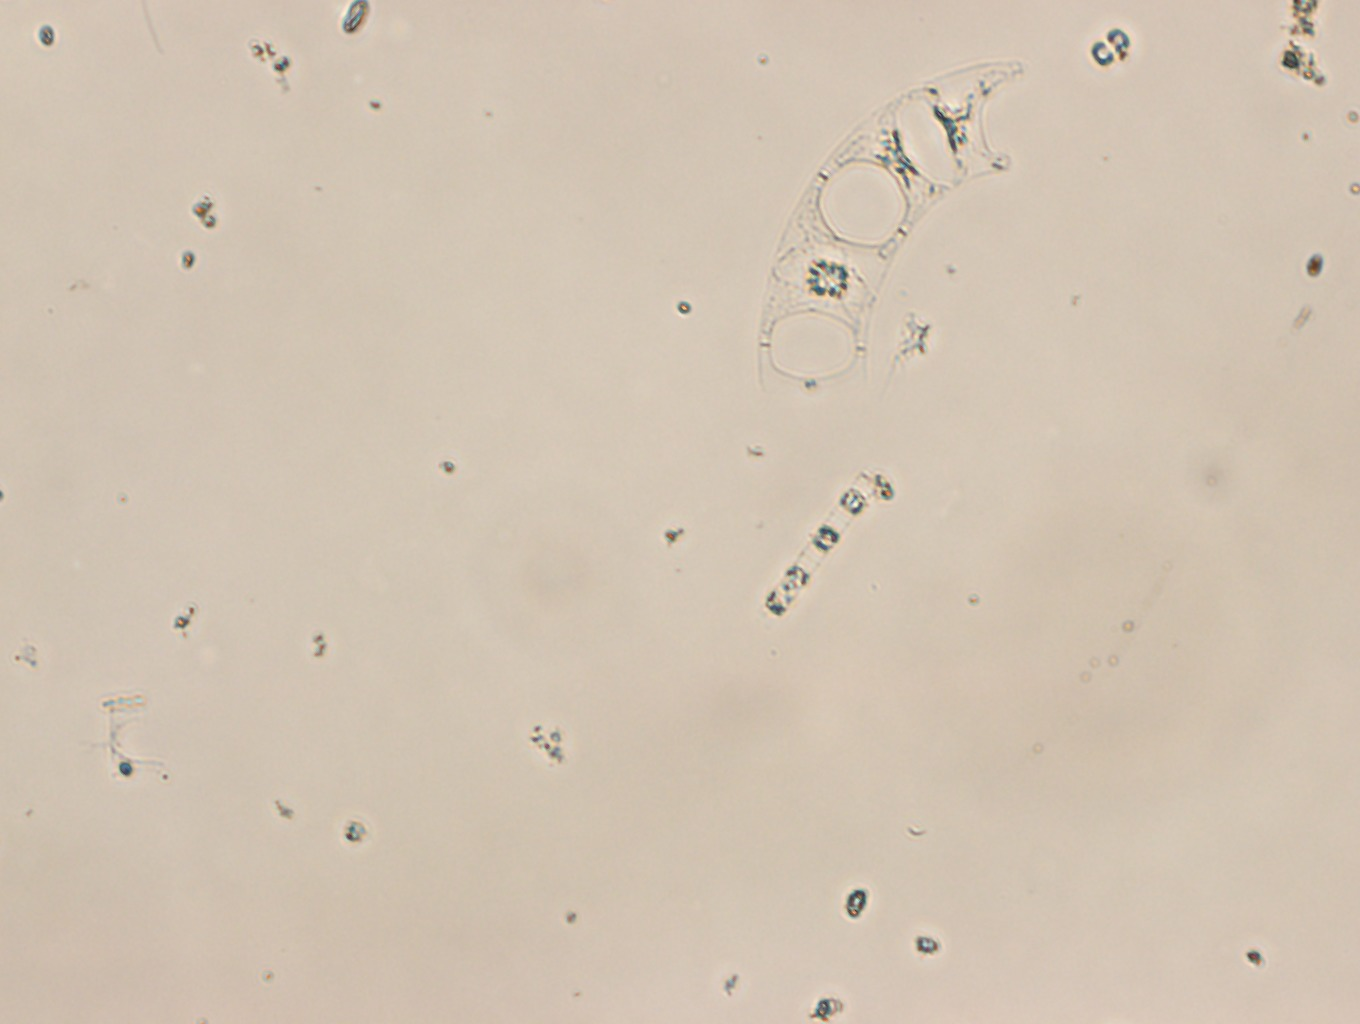eucampia: (757, 57, 1030, 406)
skeletonema: (764, 464, 882, 623)
